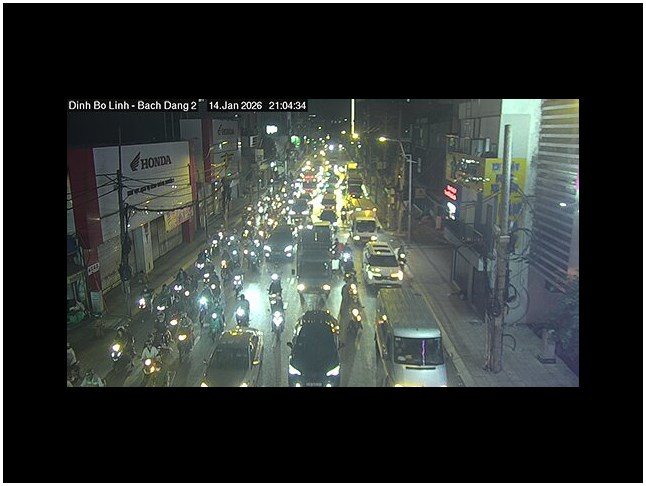car: (374, 285, 448, 385), (203, 325, 264, 386), (362, 244, 405, 287)
